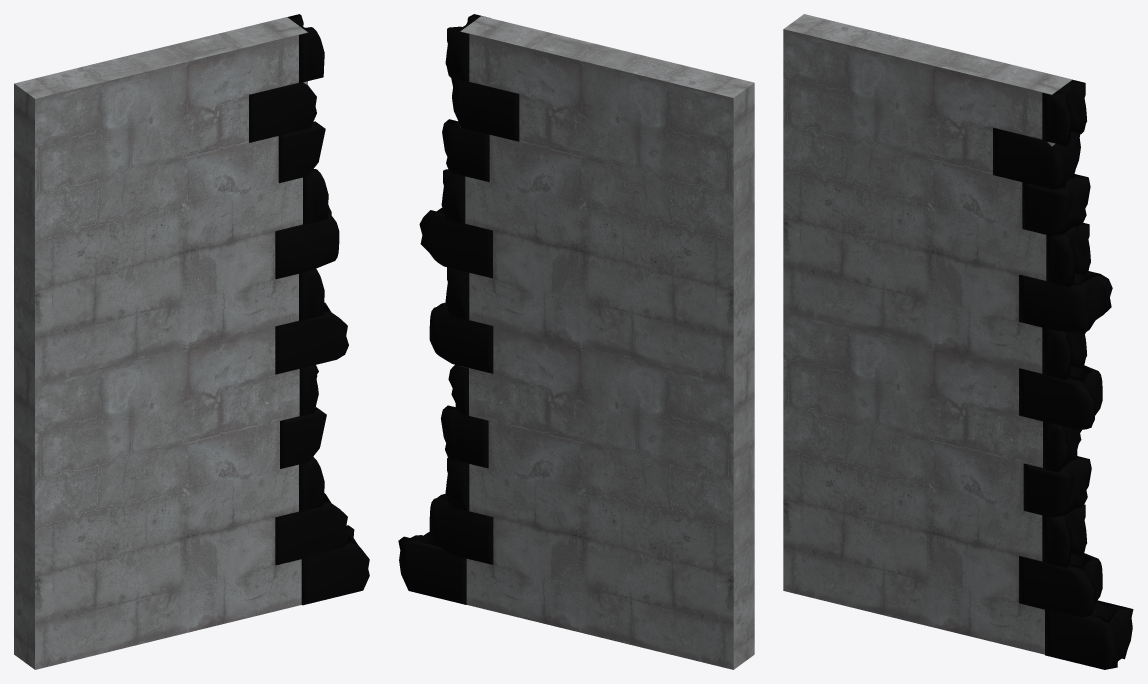
File: wall_Full_Broken_01.fbx
The picture shows the model from 3 angles, left to right: view 1: azimuth 30°, elevation 25°; view 2: azimuth 150°, elevation 25°; view 3: azimuth 330°, elevation 25°; orthographic projection.
Visible parts, largest first — view 1: wall_Full_Broken_01; view 2: wall_Full_Broken_01; view 3: wall_Full_Broken_01.
Part boxes in pixels (x1,y1,x2,y2): wall_Full_Broken_01: (14, 14, 369, 669); wall_Full_Broken_01: (398, 14, 754, 669); wall_Full_Broken_01: (783, 14, 1133, 669).
Bounding box in the file's own units: 184 × 300 × 20.93.
Materials: 2 (1 with a texture image).
